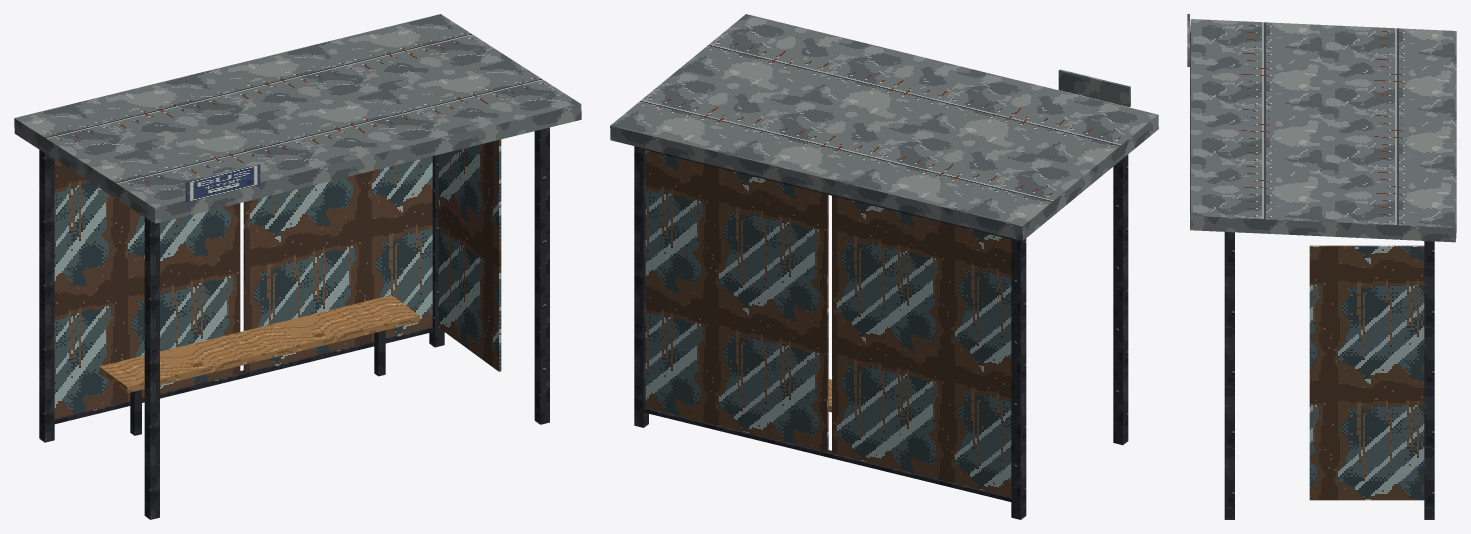
Rendered from SP_BusShelter.obj.
3 renders of one model, left to right at view 1: azimuth 30°, elevation 25°; view 2: azimuth 150°, elevation 25°; view 3: azimuth 270°, elevation 25°, orthographic. The views are drawn at different scales.
Visible parts, largest first — view 1: SP_BusShelter_Mesh_M_Arch_WindowGlassDirty, SP_BusShelter_Mesh_M_Com_SignageBacking, SP_BusShelter_Mesh_M_Town_PaintBlack, SP_BusShelter_Mesh_M_Furn_WoodLight, SP_BusShelter_Mesh_M_Town_SignAtlas; view 2: SP_BusShelter_Mesh_M_Arch_WindowGlassDirty, SP_BusShelter_Mesh_M_Com_SignageBacking, SP_BusShelter_Mesh_M_Town_PaintBlack; view 3: SP_BusShelter_Mesh_M_Com_SignageBacking, SP_BusShelter_Mesh_M_Arch_WindowGlassDirty, SP_BusShelter_Mesh_M_Town_PaintBlack.
Part boxes in pixels (x1,y1,x2,y2): SP_BusShelter_Mesh_M_Arch_WindowGlassDirty: [54, 139, 501, 418]; SP_BusShelter_Mesh_M_Com_SignageBacking: [14, 14, 581, 223]; SP_BusShelter_Mesh_M_Town_PaintBlack: [39, 127, 549, 519]; SP_BusShelter_Mesh_M_Furn_WoodLight: [99, 295, 419, 393]; SP_BusShelter_Mesh_M_Town_SignAtlas: [187, 164, 260, 202]; SP_BusShelter_Mesh_M_Arch_WindowGlassDirty: [645, 150, 1011, 496]; SP_BusShelter_Mesh_M_Com_SignageBacking: [610, 14, 1158, 240]; SP_BusShelter_Mesh_M_Town_PaintBlack: [634, 146, 1128, 519]; SP_BusShelter_Mesh_M_Com_SignageBacking: [1187, 14, 1456, 242]; SP_BusShelter_Mesh_M_Arch_WindowGlassDirty: [1309, 245, 1424, 500]; SP_BusShelter_Mesh_M_Town_PaintBlack: [1224, 232, 1434, 519].
Bounding box in the file's own units: 3.5 × 2.73 × 2.02.
5 materials, 5 textured.
